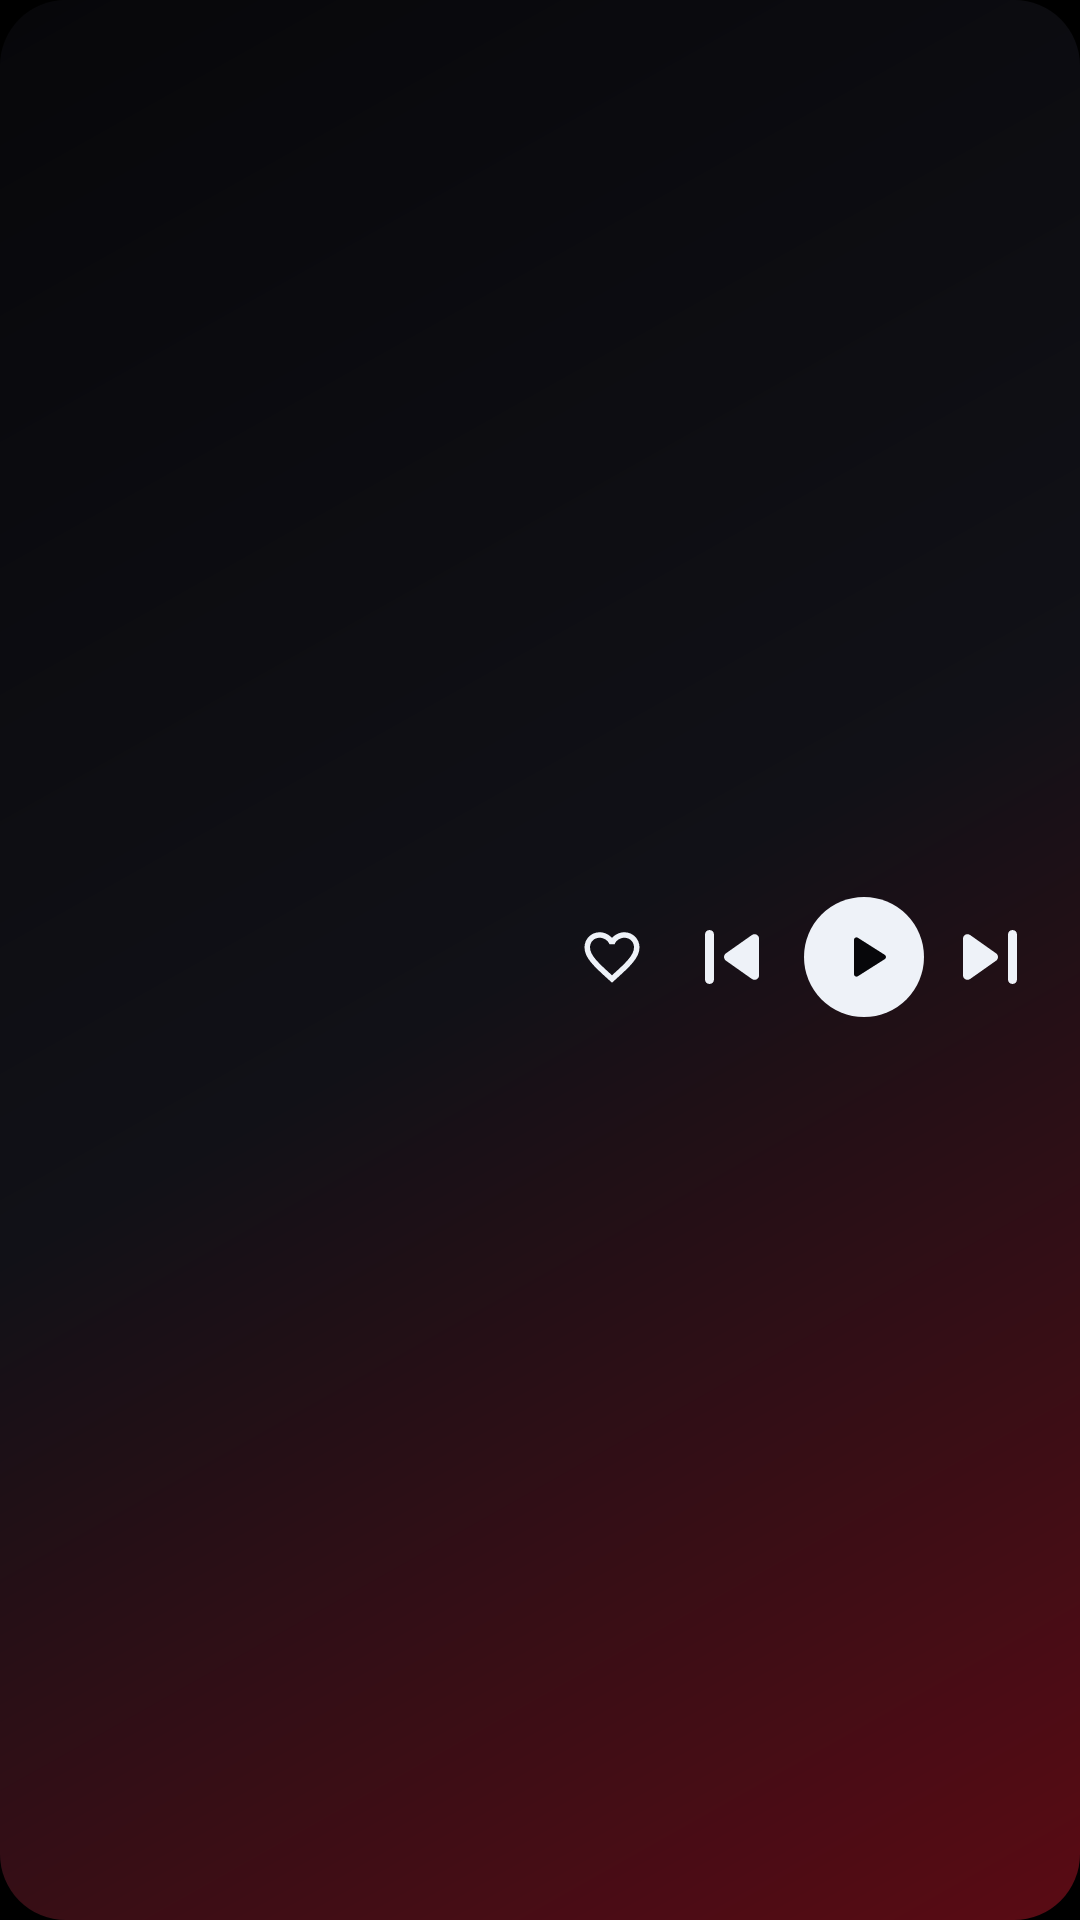

Screen size 1080w x 1920h. Icon name, then its center in pixels as (x=x, y=y):
heart: (x=612, y=957)
Next: (x=990, y=957)
Play: (x=864, y=957)
Previous: (x=732, y=957)
